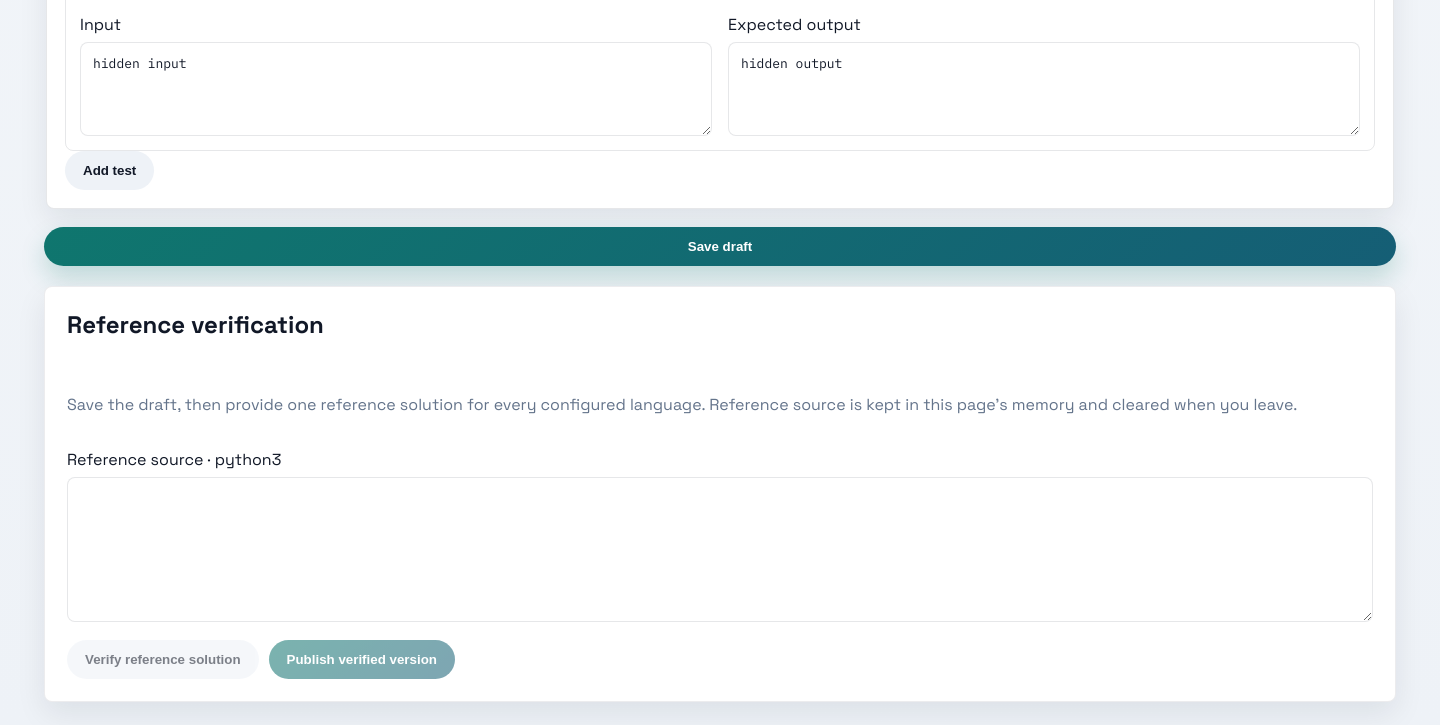
Test: teacher problem authoring › publishes only the saved exact version after complete reference verification
This screenshot has width=1440, height=725.
(page scrolled)
Expected: the button "Publish verified version" is disabled, left=269, top=640, right=455, bottom=679
Expected: the button "Verify reference solution" is disabled, left=67, top=640, right=259, bottom=679
Step 1. Type "print(sum(map(int, input().split())))" into the text box labelled "Reference source · python3" → (720, 550), box left=67, top=477, right=1373, bottom=622
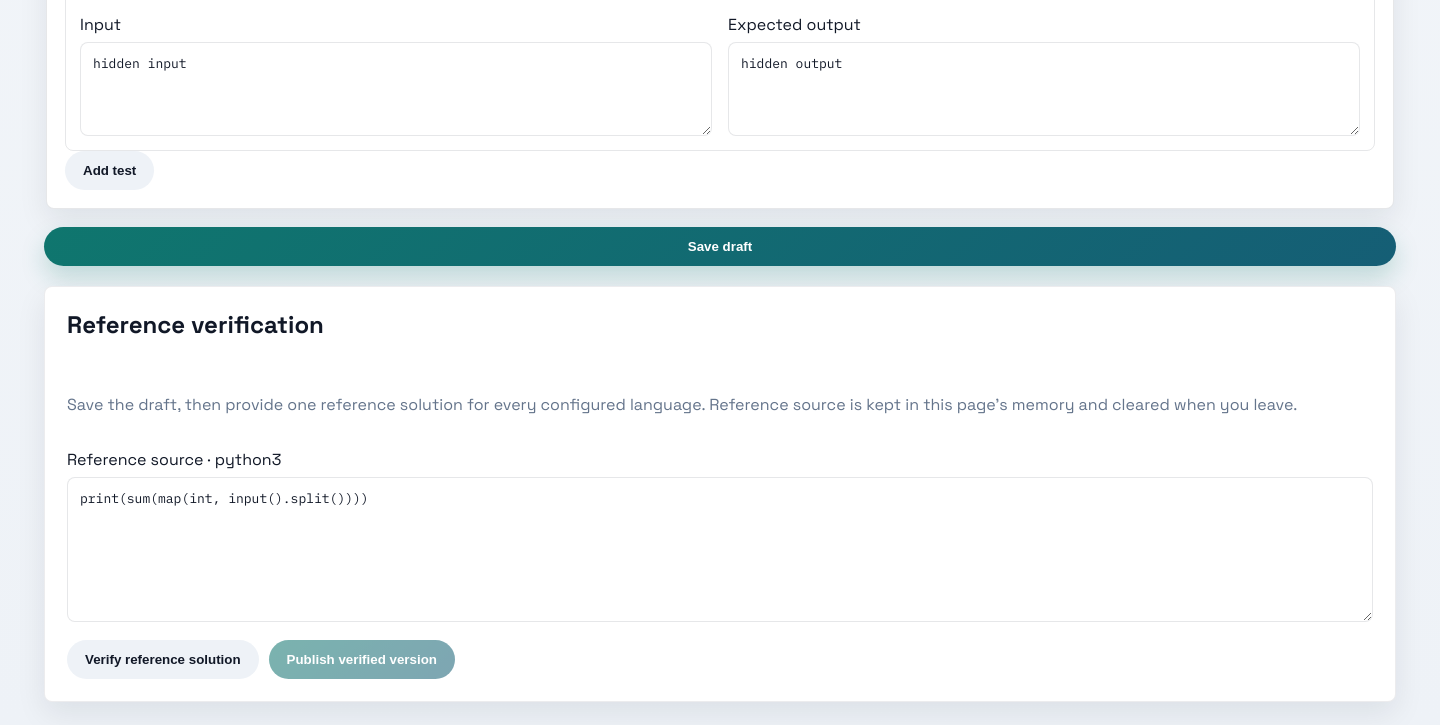
Step 2. Click the button "Verify reference solution" → (163, 660), box left=67, top=640, right=259, bottom=679
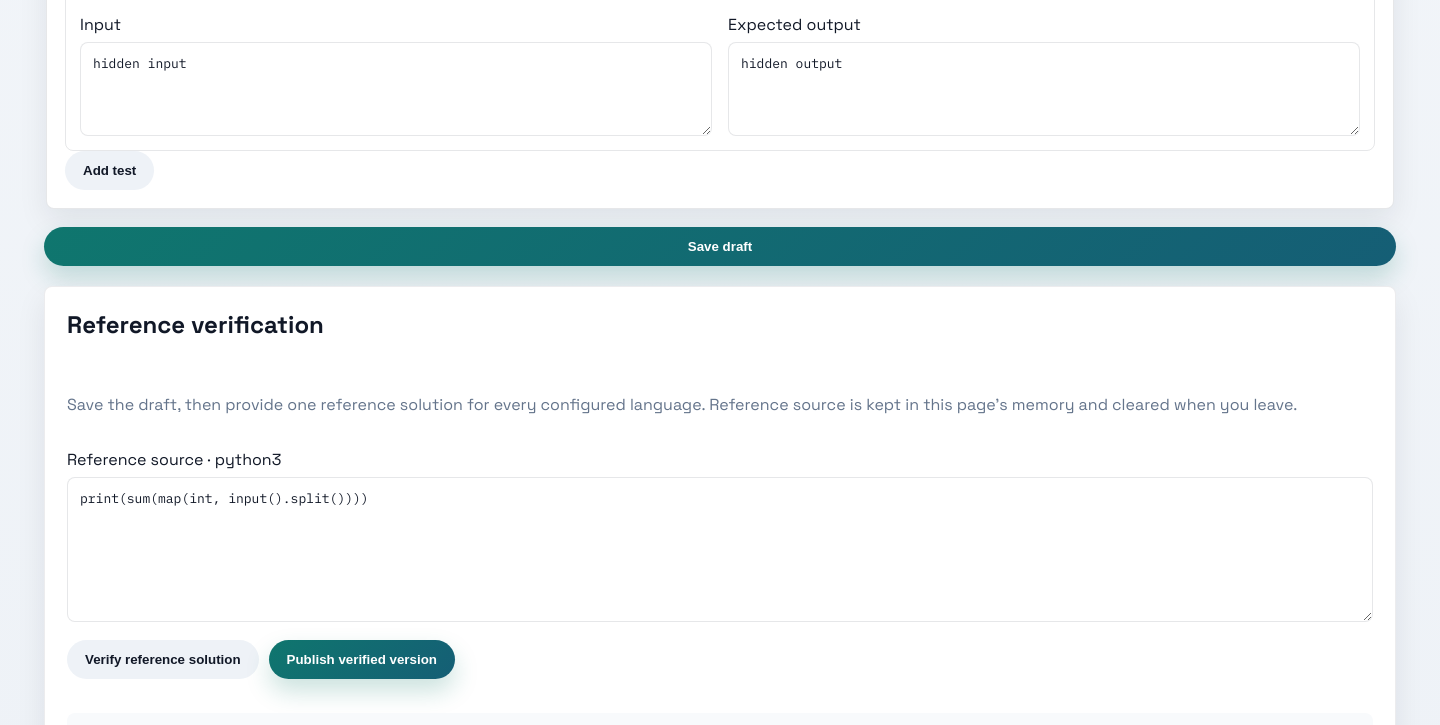
Result: the button "Publish verified version" is enabled
Step 3. Click the button "Publish verified version" → (362, 660), box left=269, top=640, right=455, bottom=679
(page scrolled)
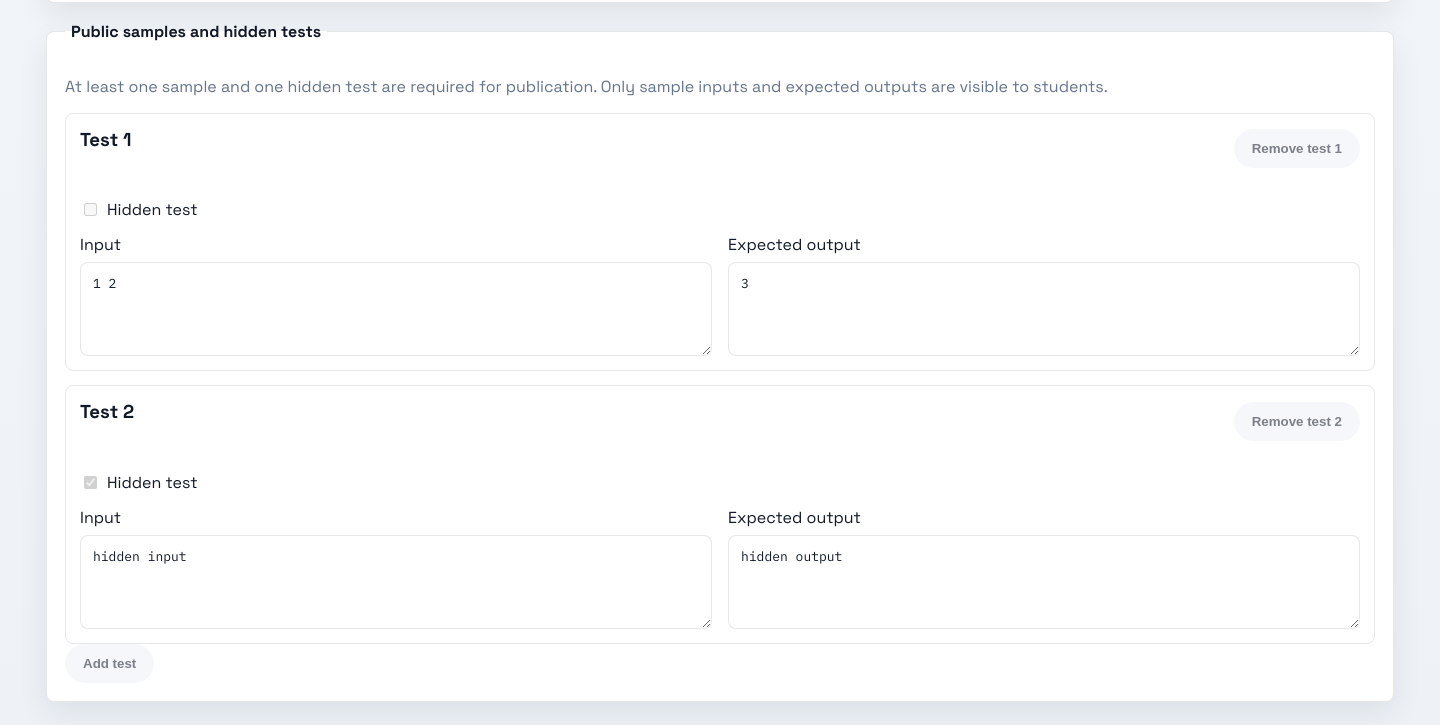
Result: the text "Reference source ·" is gone
